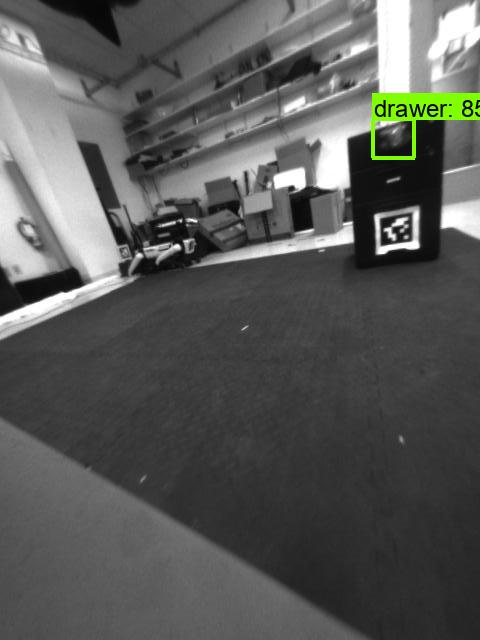drawer: (373, 123, 414, 154)
